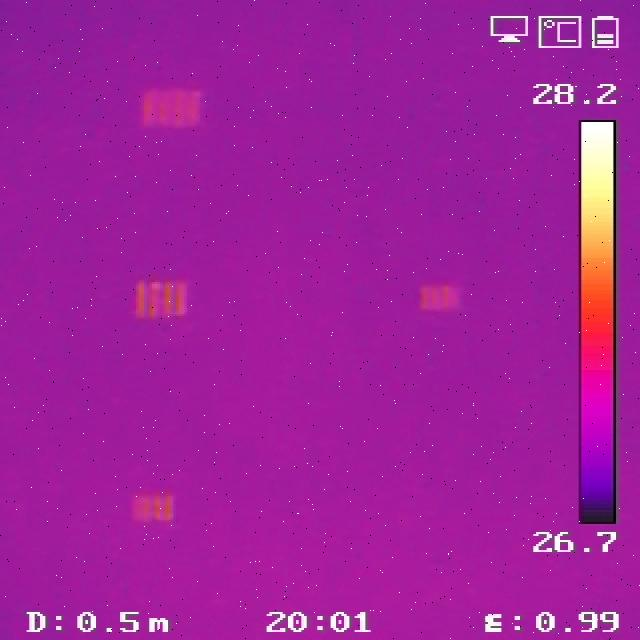Indistinguishable 4-bar target: (144, 86, 204, 122), (129, 492, 171, 520), (422, 284, 458, 310)
threshold 4-bar target: (133, 280, 187, 318)
